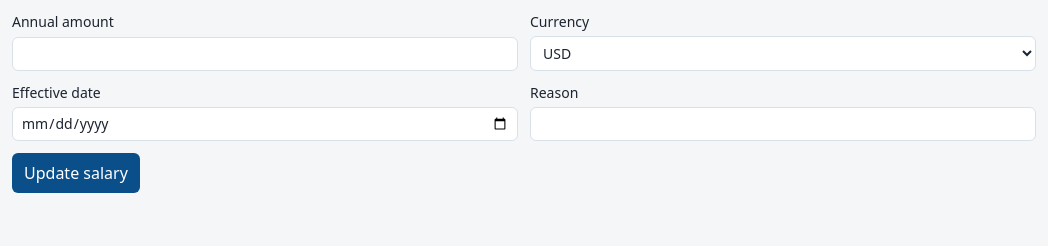
SalaryForm › reports an amount that is not a positive number
Type "abc" into the field labelled "Annual amount" at (265, 54), box top-left (12, 36), bottom-right (518, 71)
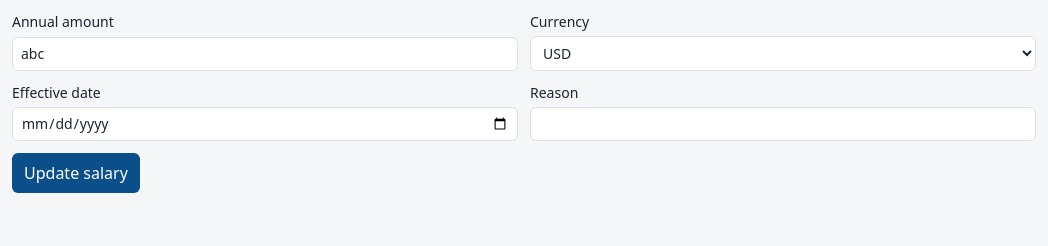
Submit the form "Update salary"
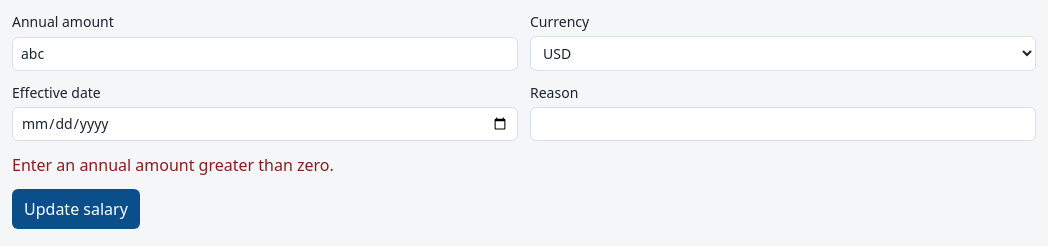
Expected: the message reads "Enter an annual amount greater than zero.", top-left (12, 154), bottom-right (334, 176)
